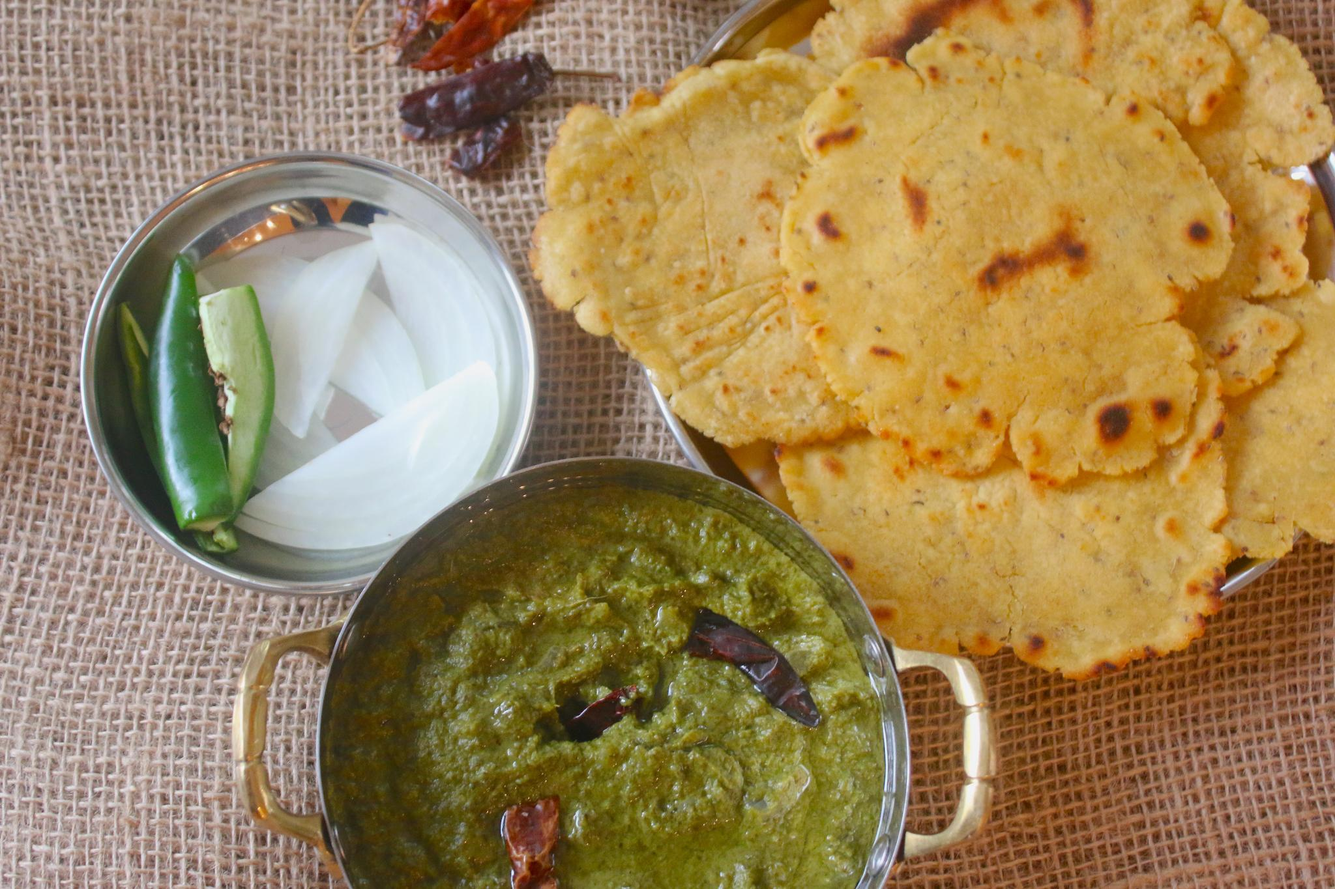saag: (341, 466, 896, 889)
